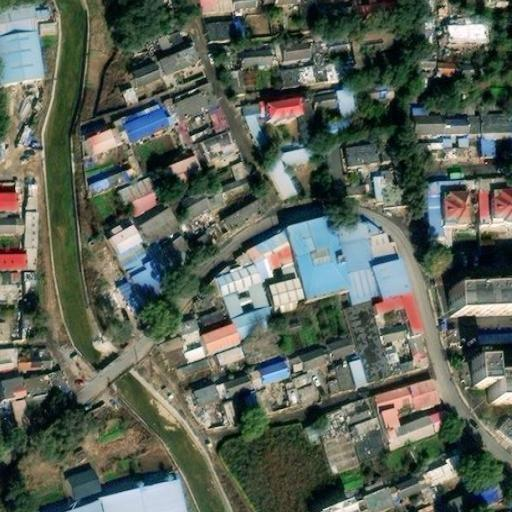building: (286, 215, 348, 300), (369, 386, 450, 451), (344, 300, 393, 385), (370, 291, 426, 347), (316, 407, 363, 471), (212, 371, 264, 425), (343, 398, 388, 460), (88, 148, 145, 196), (262, 145, 311, 200), (98, 482, 185, 512), (247, 232, 300, 280), (250, 358, 294, 414), (175, 104, 231, 147), (119, 100, 175, 143), (124, 256, 171, 307), (165, 81, 220, 123), (430, 180, 471, 235), (331, 220, 372, 275), (214, 249, 263, 294), (387, 470, 437, 512), (349, 27, 398, 69), (359, 218, 401, 267), (106, 225, 150, 271), (309, 35, 351, 83), (384, 335, 432, 377), (347, 126, 392, 168), (450, 287, 512, 316), (85, 120, 129, 159), (372, 259, 412, 301), (225, 280, 269, 318), (220, 160, 258, 202), (181, 183, 226, 218), (268, 275, 307, 315), (120, 177, 161, 215), (427, 451, 470, 487), (234, 306, 277, 342), (154, 231, 194, 269), (141, 209, 181, 246), (476, 360, 512, 401), (201, 130, 241, 166), (247, 95, 275, 146), (242, 330, 285, 363), (344, 267, 381, 305), (220, 199, 261, 233), (372, 167, 406, 207), (478, 184, 512, 223), (333, 359, 369, 394), (288, 344, 331, 373), (447, 17, 489, 44), (203, 324, 242, 353), (24, 370, 66, 396), (115, 280, 145, 315), (407, 378, 440, 409), (416, 116, 471, 134), (160, 46, 198, 72), (18, 344, 54, 371), (169, 155, 202, 184), (469, 480, 502, 509), (319, 493, 368, 512), (128, 61, 162, 88), (274, 39, 312, 63), (228, 65, 258, 95), (413, 104, 475, 118), (445, 191, 471, 224), (325, 335, 358, 361), (295, 373, 321, 404), (362, 487, 394, 512), (158, 27, 191, 51), (177, 355, 213, 377), (479, 109, 512, 133), (190, 220, 219, 247), (281, 64, 315, 87), (70, 472, 101, 497), (214, 342, 247, 365), (25, 211, 38, 269), (327, 143, 346, 182), (269, 92, 306, 112), (197, 310, 226, 335), (337, 87, 359, 119), (239, 48, 276, 67), (22, 312, 45, 341), (445, 492, 477, 512), (207, 20, 236, 42), (178, 318, 203, 343), (0, 377, 27, 400), (368, 81, 397, 102), (418, 11, 437, 40), (478, 329, 512, 345), (285, 379, 304, 407), (478, 131, 501, 154), (495, 409, 512, 439), (194, 383, 217, 405), (369, 0, 399, 16), (185, 344, 210, 363), (159, 334, 185, 352), (13, 399, 29, 428), (316, 90, 340, 109), (25, 269, 38, 304), (305, 423, 324, 446), (258, 0, 300, 10), (0, 253, 25, 269), (416, 59, 437, 77), (437, 61, 459, 78), (331, 4, 354, 20), (25, 183, 37, 212), (458, 62, 476, 79), (233, 18, 247, 39), (122, 89, 137, 106), (483, 0, 510, 9), (328, 380, 342, 397), (41, 23, 56, 35)
